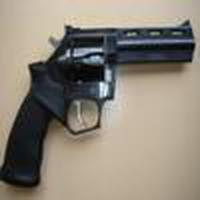gun: (4, 24, 197, 189)
